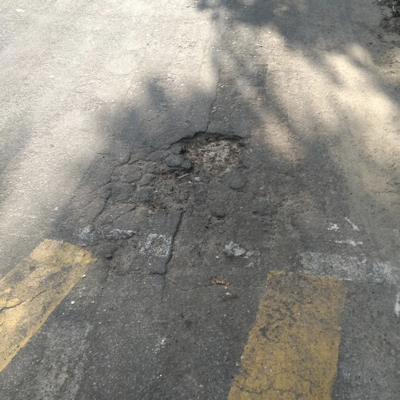pothole: (171, 130, 255, 181), (147, 167, 202, 213), (106, 235, 143, 280)
